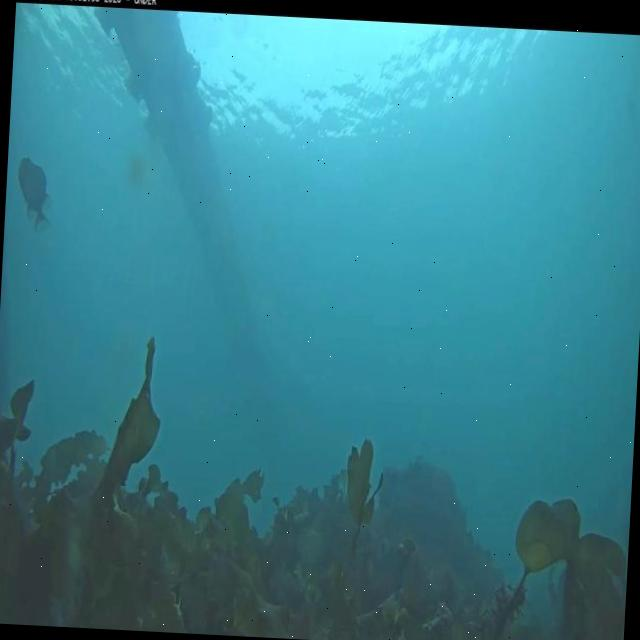fish: (15, 158, 58, 234)
